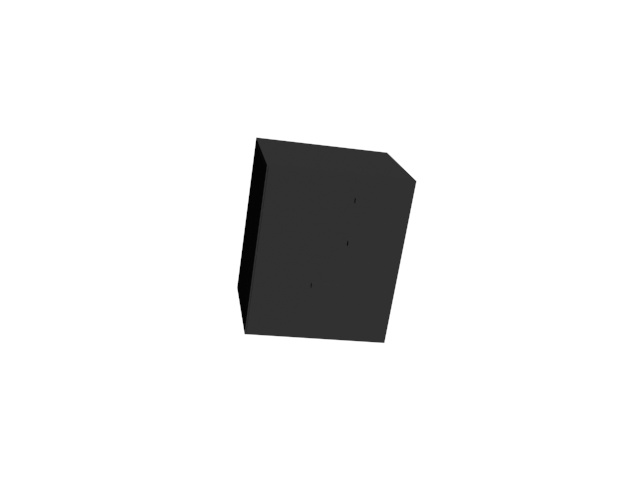file_cabinet: (233, 137, 424, 344)
